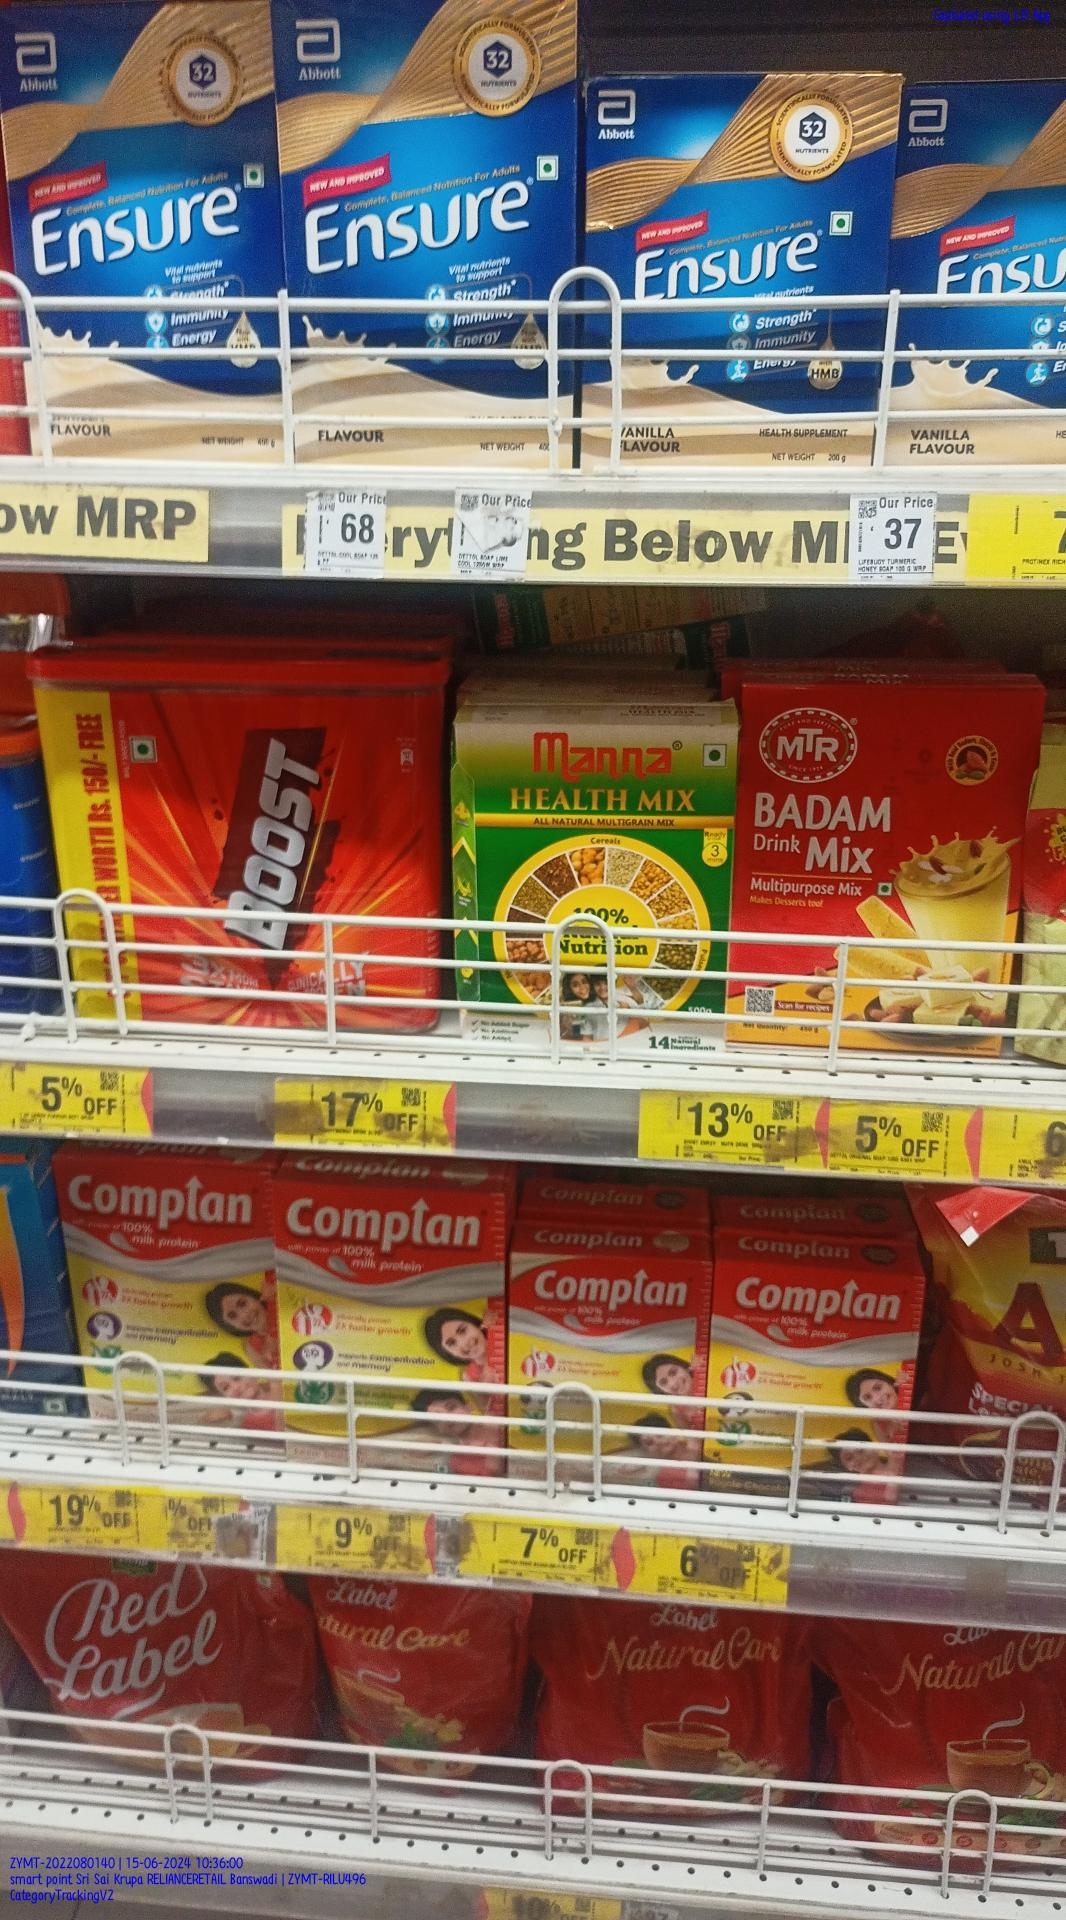COMPLAN_CHOCOLATE_200_GMS_PACK: (713, 1257, 907, 1500)
COMPLAN_KESAR_BADAM_200_GMS_PACK: (507, 1255, 706, 1486)
COMPLAN_KESAR_BADAM_500_GMS_PACK: (280, 1172, 498, 1461), (67, 1155, 268, 1441)
ENSURE_VANILLA_400_G_PACK: (291, 5, 574, 458), (9, 7, 273, 465)
